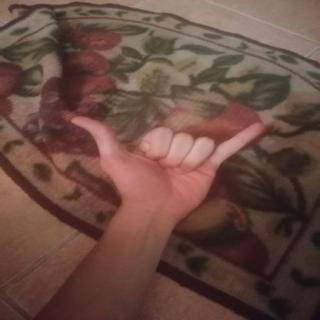YA: (55, 104, 281, 230)
